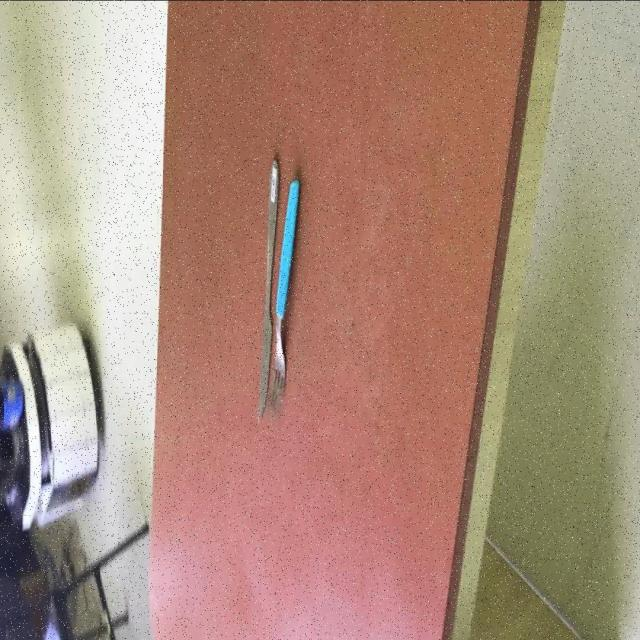Fork: (267, 180, 300, 411)
Knife: (256, 160, 280, 425)
